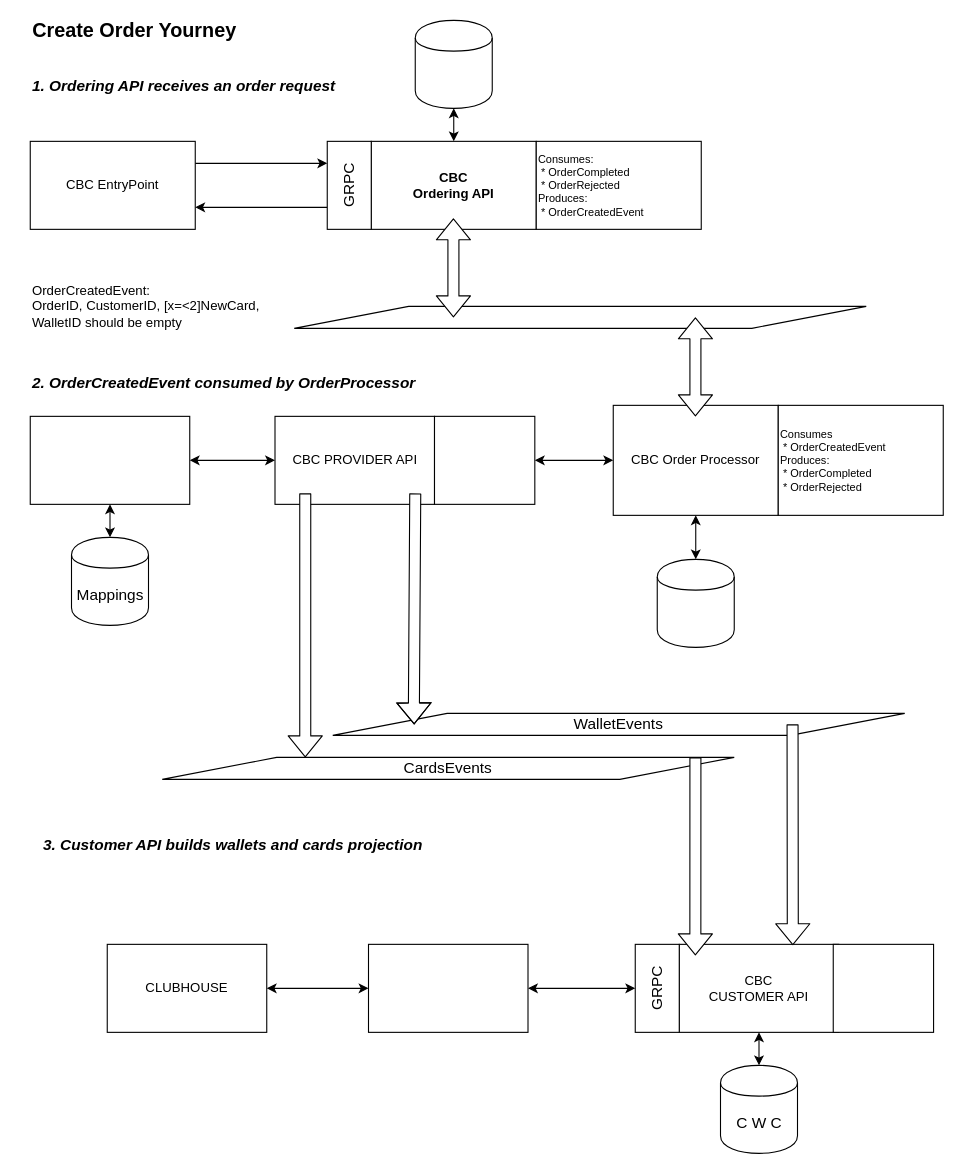
The diagram is 963 pixels wide and 1173 high, and some of its shapes have lost their labels. Each missing label, with the centre of its shape:
"CBC GATEWAY / GRAPHQL" belongs at point (447, 987).
"CBC PAYMENTOLOGY API" belongs at point (109, 459).
"Consumes: * WalletCreted * CardCreated" belongs at point (883, 987).
"DEDUP" belongs at point (695, 602).
"OrderingEvents Topic" belongs at point (579, 316).
"OrdersDB" belongs at point (453, 63).
"Produces: * WalletCreted * CardCreated" belongs at point (484, 459).
